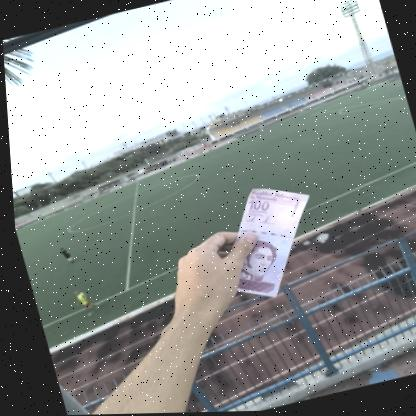one_hundred-front-vef: (204, 175, 331, 307)
